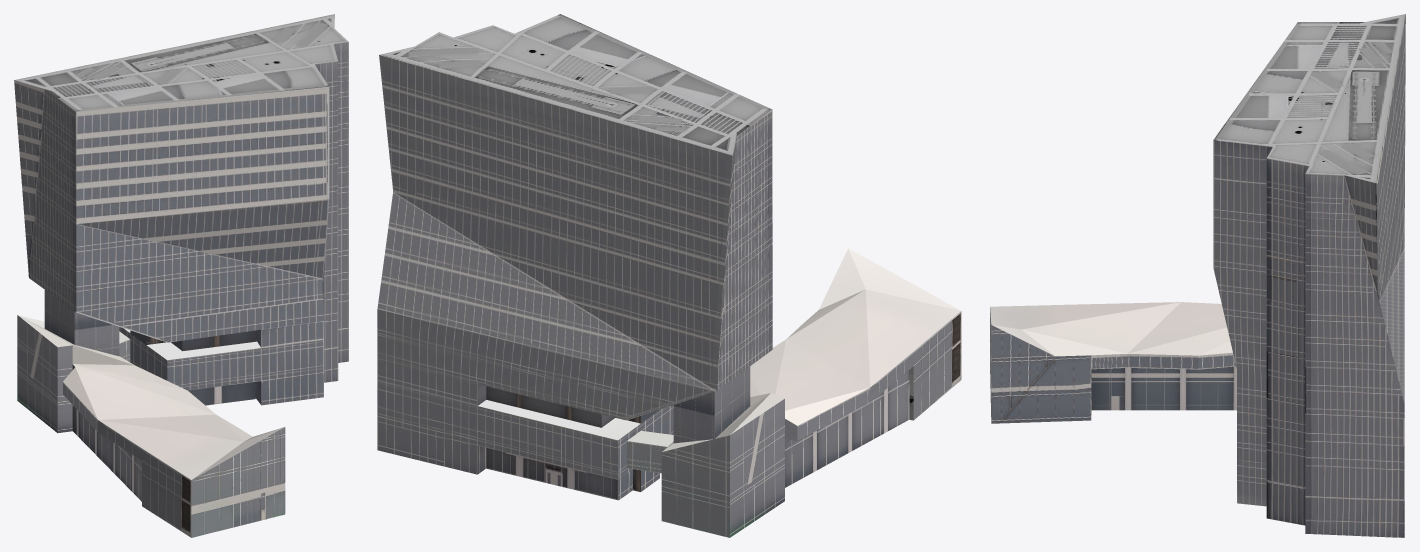
3 renders of one model, left to right at view 1: azimuth 30°, elevation 25°; view 2: azimuth 150°, elevation 25°; view 3: azimuth 270°, elevation 25°, orthographic. The views are drawn at different scales.
Visible parts, largest first — view 1: Plane.002; view 2: Plane.002; view 3: Plane.002.
Boxes of the visible parts, x1,y1,x2,y2 form: Plane.002: (14,14,348,537); Plane.002: (377,14,961,537); Plane.002: (990,14,1405,537).
Size of the model in its own units: 70.29 by 66.55 by 69.31.
Materials: 1 (1 with a texture image).
